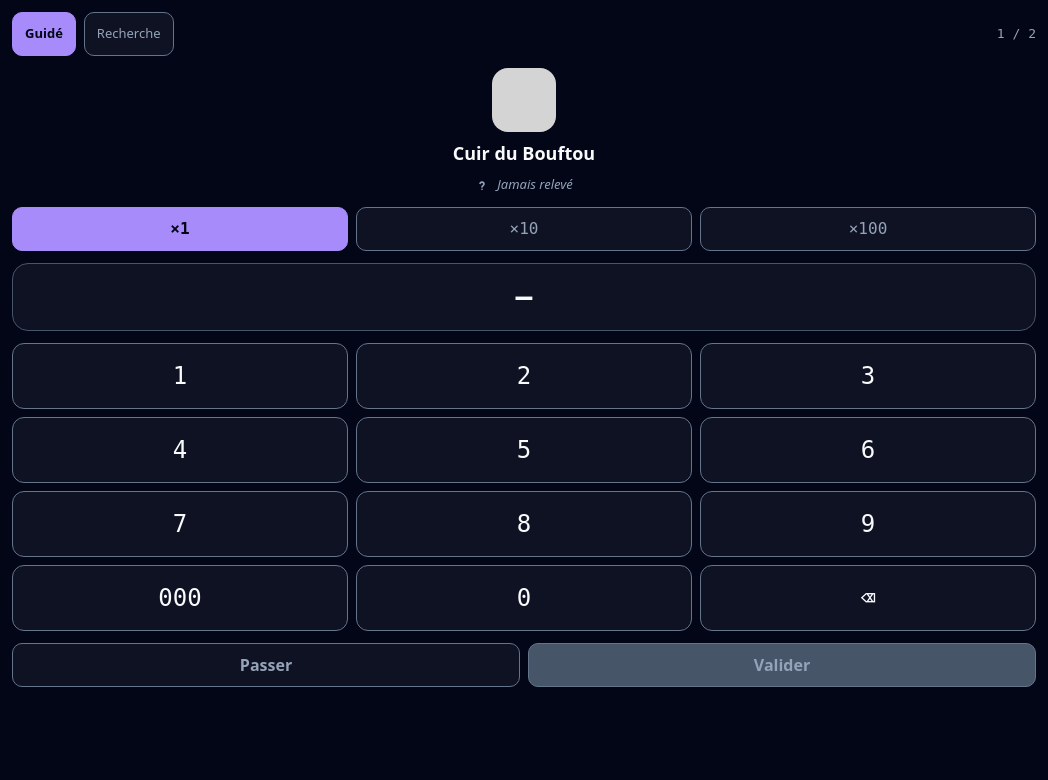
Test: PricesScreen — pavé numérique et validation › nactive « Valider » quune fois un montant saisi
Expected: the button "Valider" is disabled, 528,642 -> 1036,686
Step 1. Click the button "7" → (180, 524), box 12,490 -> 348,556
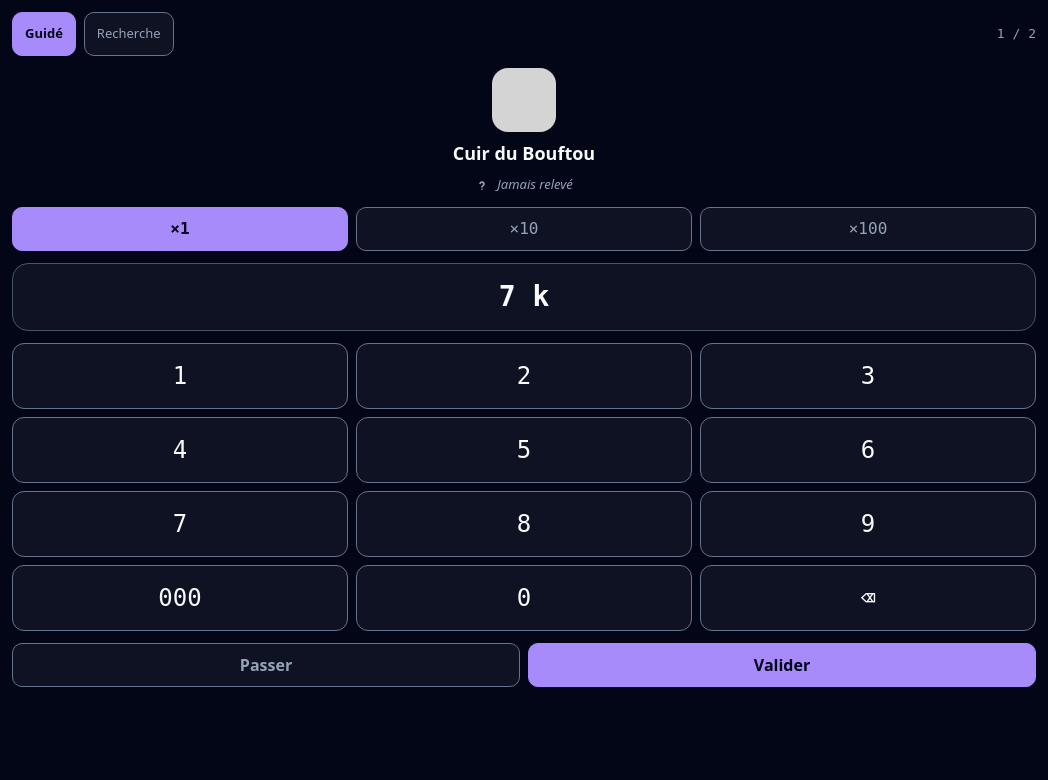
Expected: the button "Valider" is enabled, 528,642 -> 1036,686
